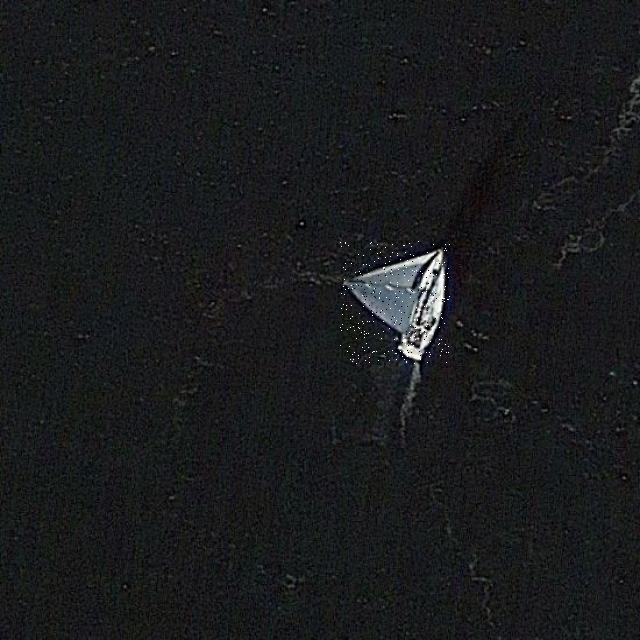boat: (340, 241, 450, 364)
